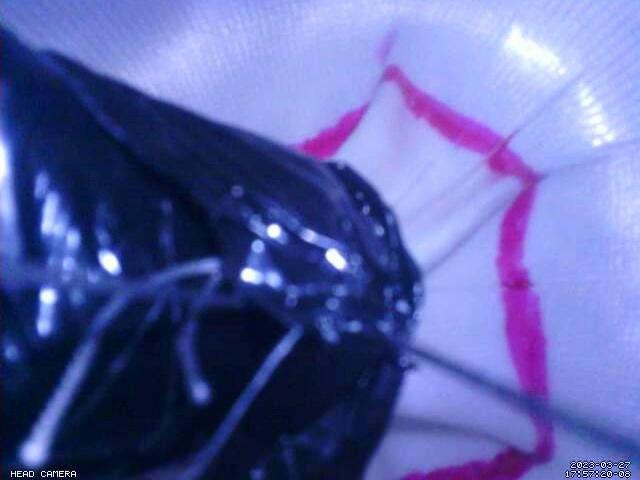red-circle: (294, 63, 556, 480)
